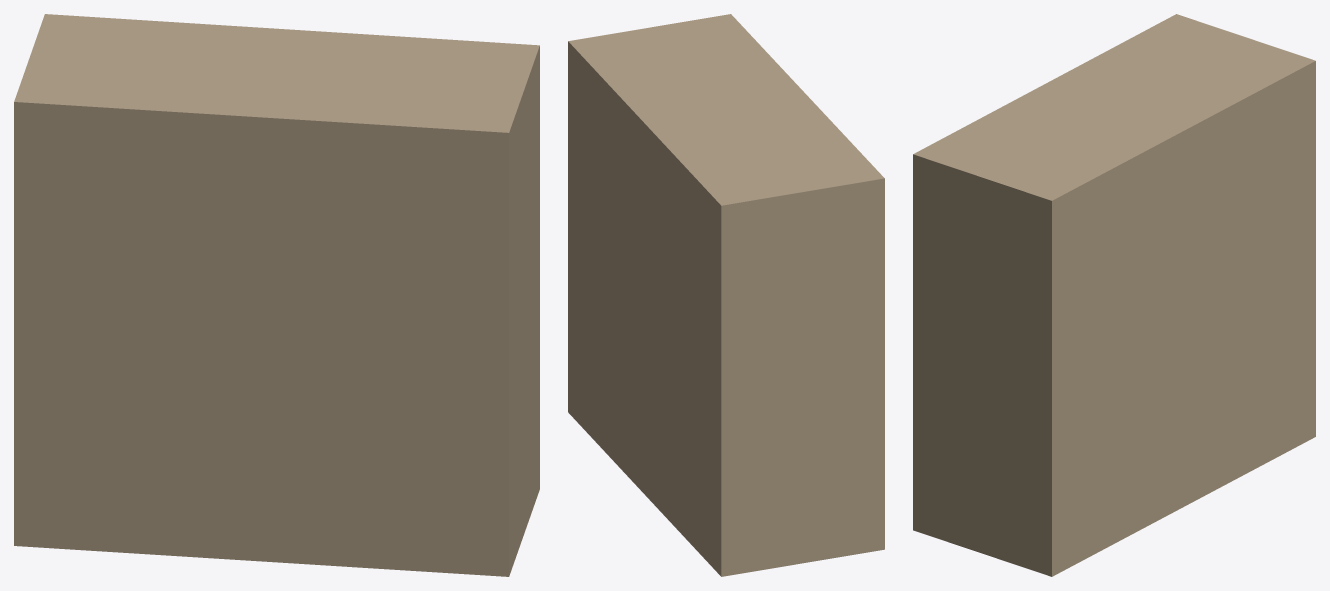
File: bld_99519805.dae
3 views of the same model, side by side, from view 1: azimuth 30°, elevation 25°; view 2: azimuth 150°, elevation 25°; view 3: azimuth 270°, elevation 25° (orthographic). The views are drawn at different scales.
Parts seen in each view (by area): view 1: bld_99519805; view 2: bld_99519805; view 3: bld_99519805.
Boxes of the visible parts, <box> form: bld_99519805: <box>14,14,539,576</box>; bld_99519805: <box>568,14,884,576</box>; bld_99519805: <box>913,14,1315,576</box>.
Size of the model in its own units: 8.53 by 7.77 by 8.
